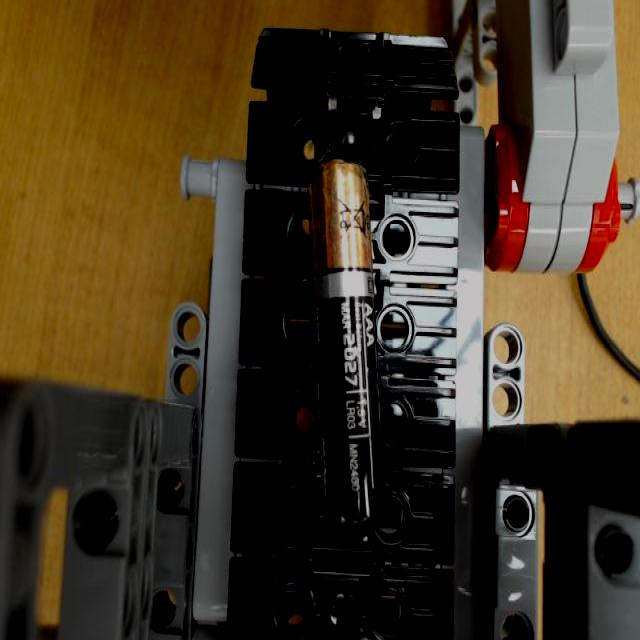AAA: (308, 156, 384, 524)
